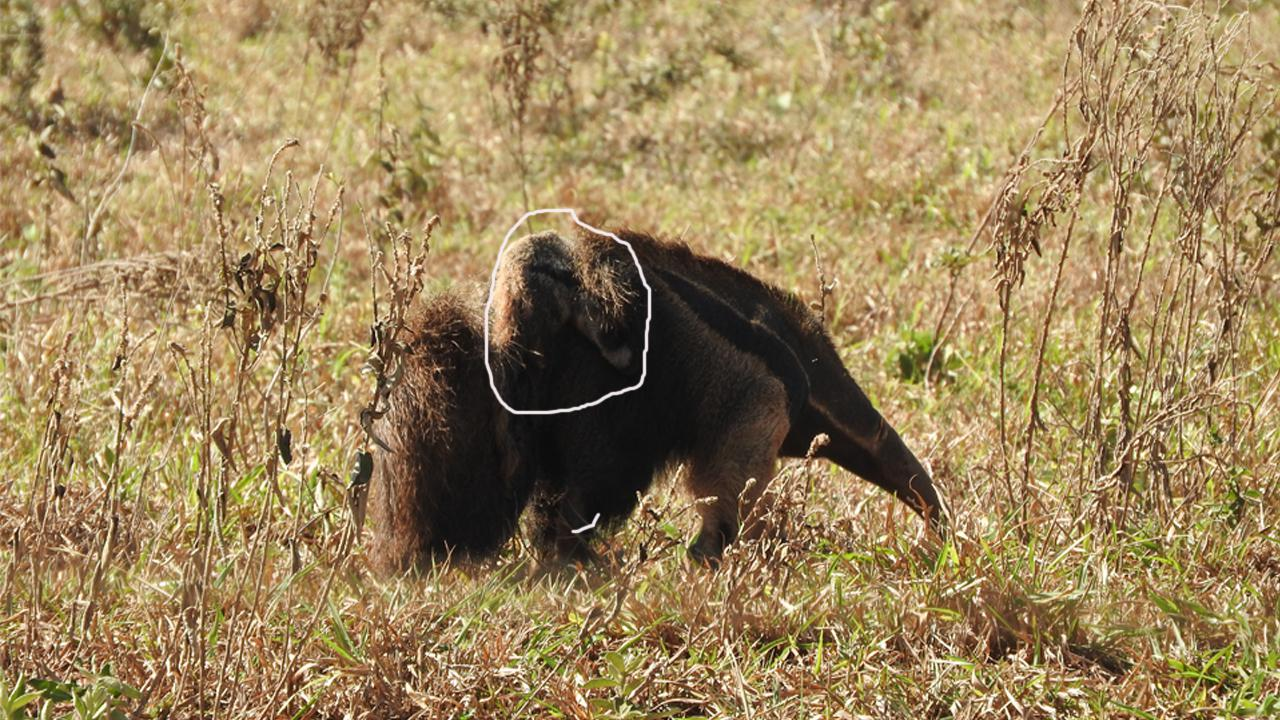TamanduaBandeira: (357, 212, 947, 580)
